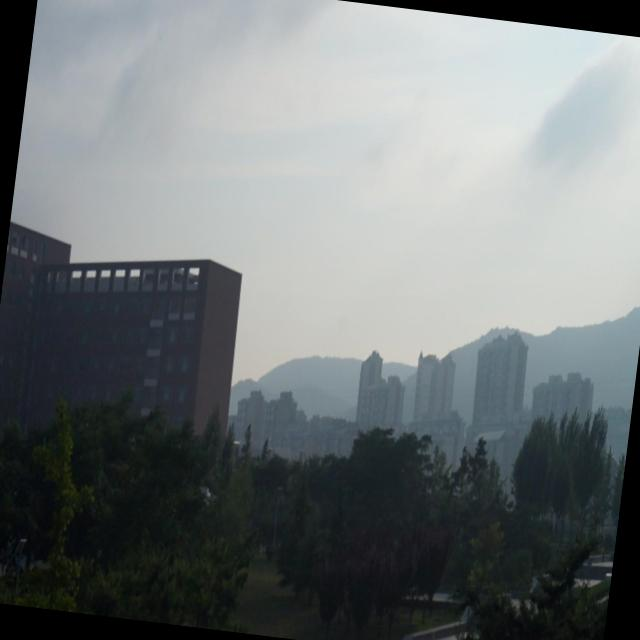drone: (194, 482, 218, 506)
